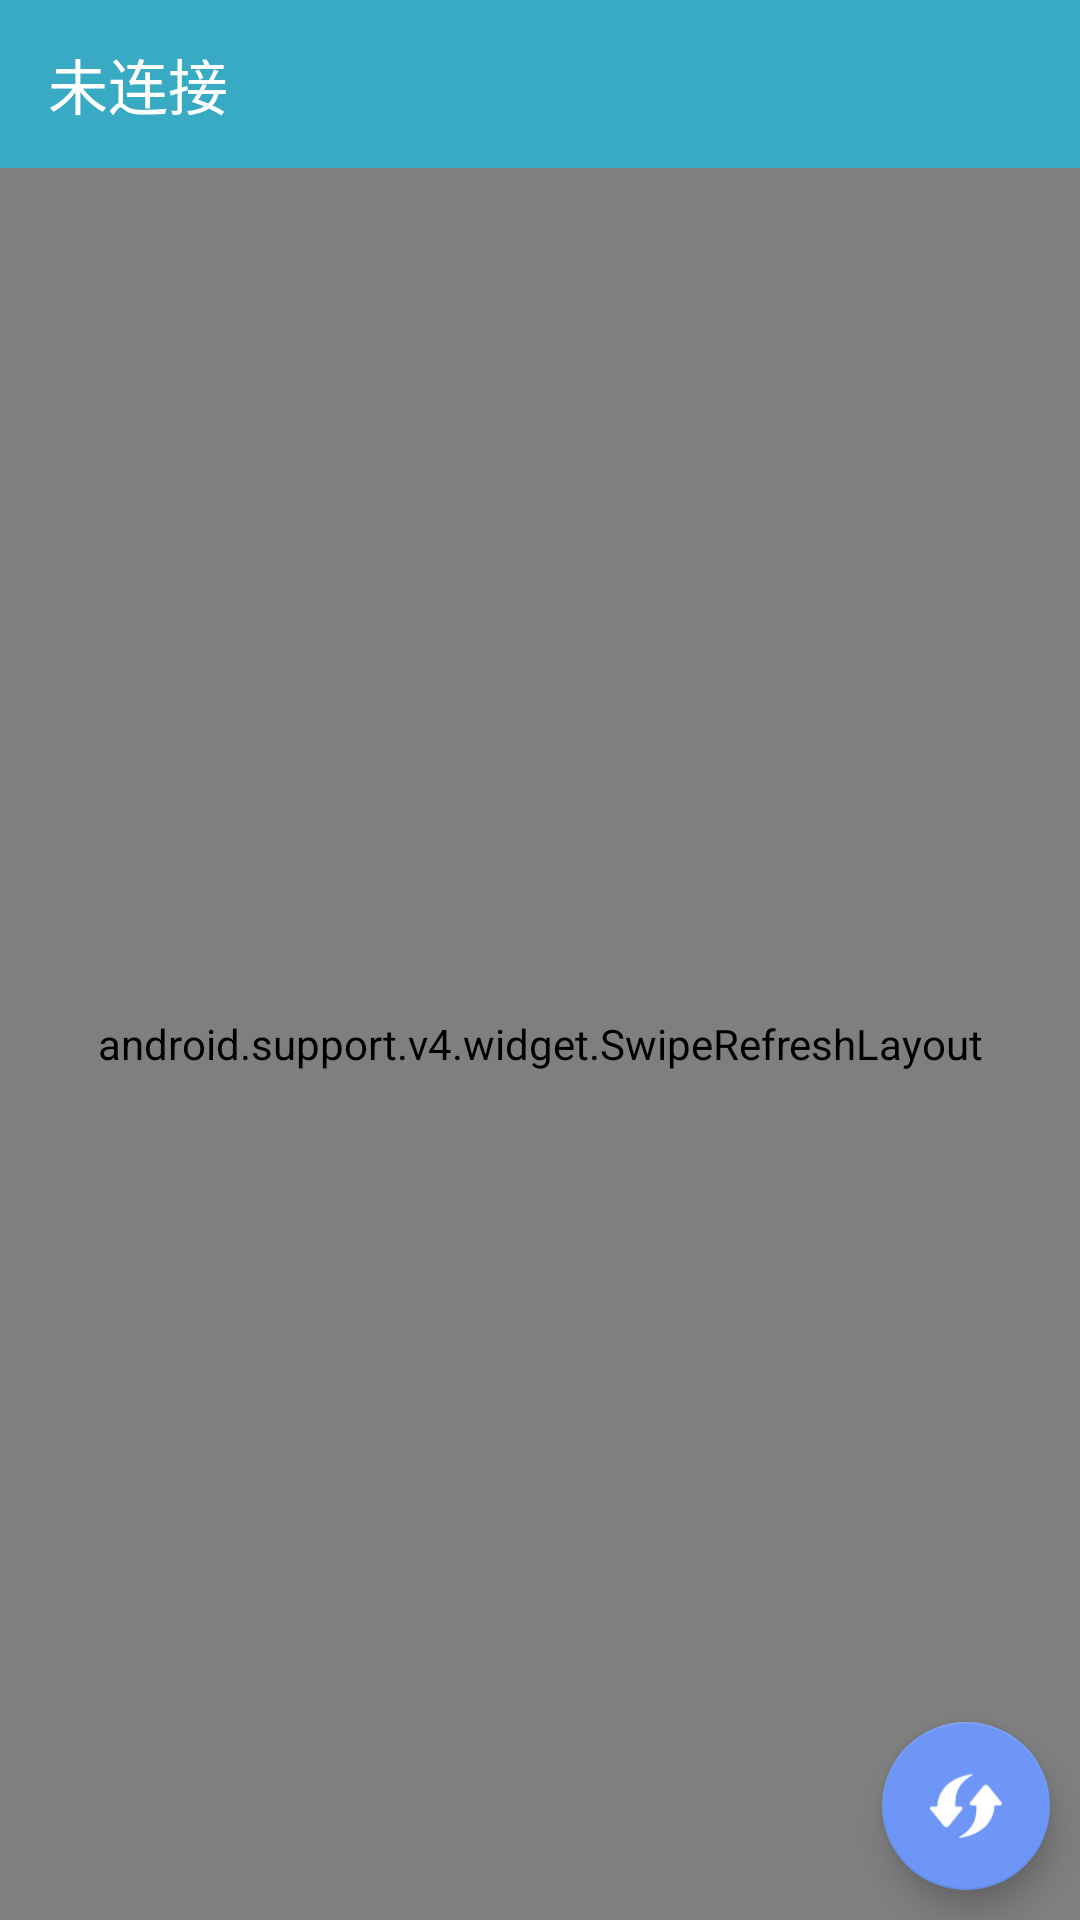

Where to tap for icons on this 1080*1920 app screen, as (x=x, y=y):
reflesh: (x=966, y=1806)
